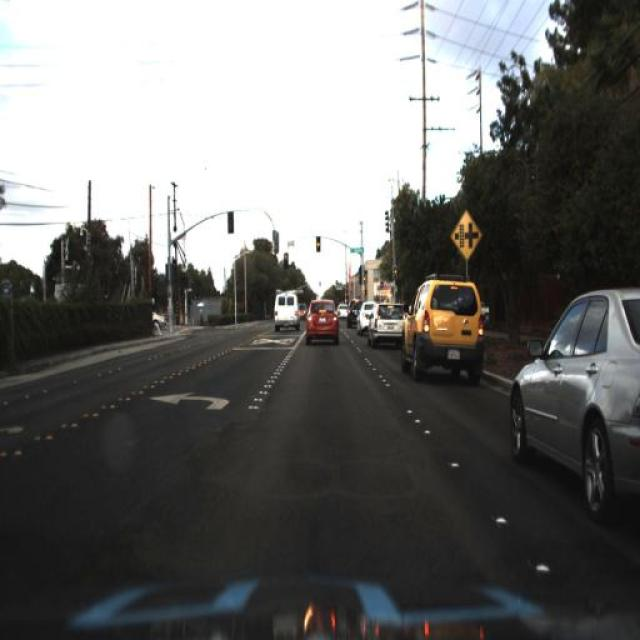car: (502, 286, 638, 520), (398, 272, 488, 379), (294, 286, 346, 349), (370, 294, 402, 354), (270, 286, 296, 332), (356, 296, 375, 342), (346, 298, 366, 332)
trafficLight-Green: (312, 231, 322, 263), (281, 249, 291, 273)
